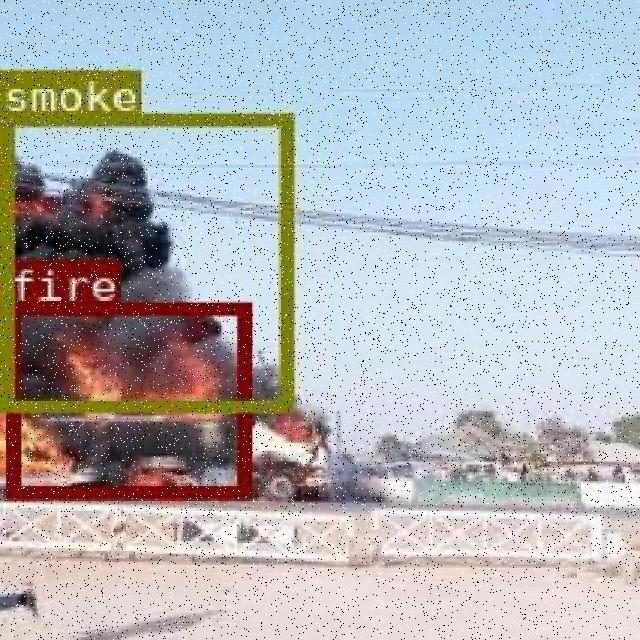Smoke: (0, 111, 218, 407)
